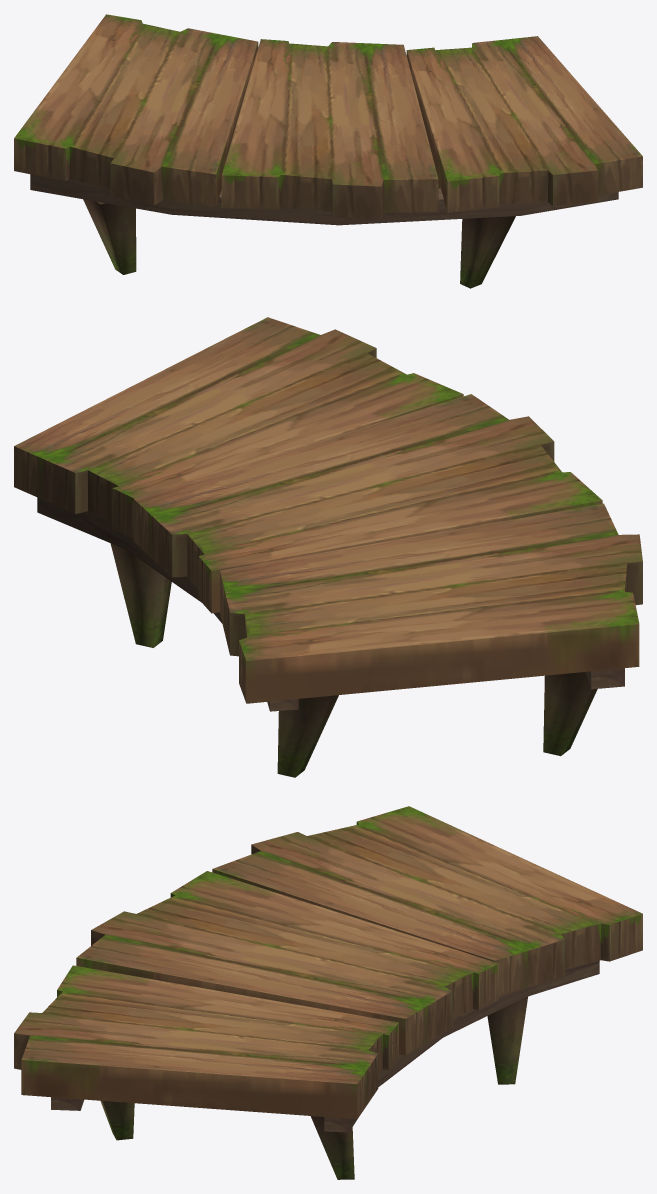
The model's file is fb_lyhg_zj_20_c.FBX.
The picture shows the model from 3 angles, top to bottom: view 1: azimuth 30°, elevation 25°; view 2: azimuth 150°, elevation 25°; view 3: azimuth 270°, elevation 25°; orthographic projection. The views are drawn at different scales.
Parts seen in each view (by area): view 1: fb_lyhg_zj_20_c; view 2: fb_lyhg_zj_20_c; view 3: fb_lyhg_zj_20_c.
Part boxes in pixels (x1=…): fb_lyhg_zj_20_c: x1=14, y1=14, x2=642, y2=288; fb_lyhg_zj_20_c: x1=14, y1=317, x2=642, y2=777; fb_lyhg_zj_20_c: x1=14, y1=806, x2=642, y2=1179.
Size of the model in its own units: 364 by 94.21 by 352.
